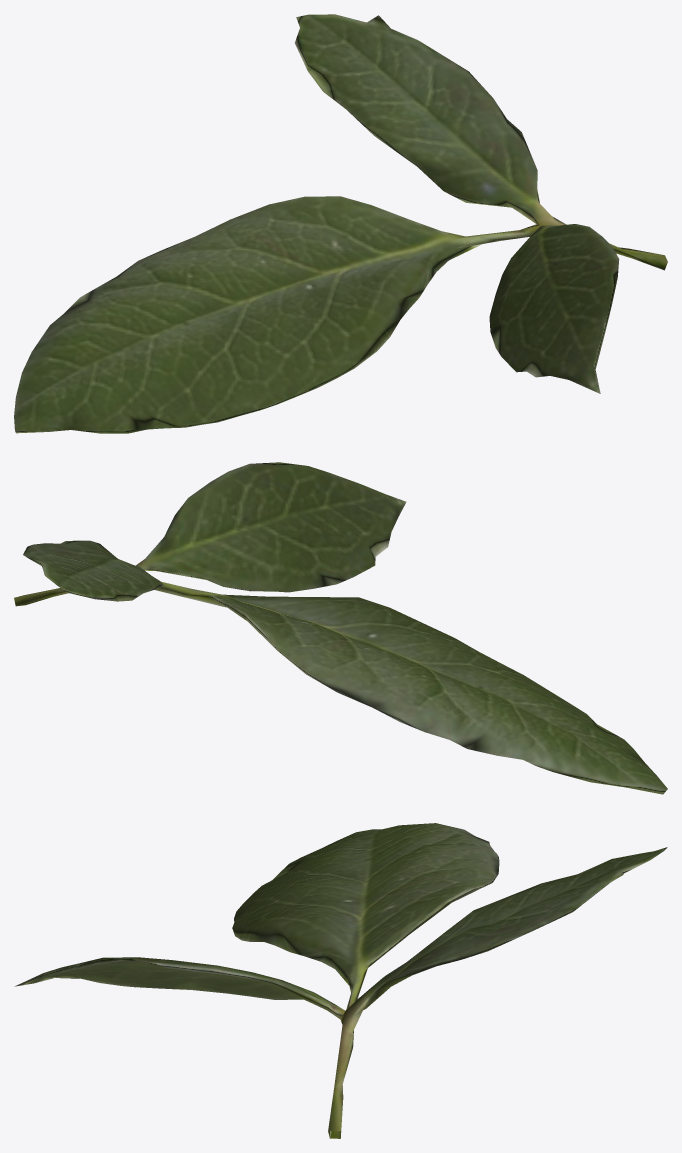
The model's file is rosaleaveScanned2.fbx.
3 views of the same model, one above another, from view 1: azimuth 30°, elevation 25°; view 2: azimuth 150°, elevation 25°; view 3: azimuth 270°, elevation 25° (orthographic). The views are drawn at different scales.
Visible parts, largest first — view 1: rosaleaveScanned2; view 2: rosaleaveScanned2; view 3: rosaleaveScanned2.
Boxes of the visible parts, bbox=[...] form: rosaleaveScanned2: bbox=[14, 14, 667, 433]; rosaleaveScanned2: bbox=[14, 462, 667, 794]; rosaleaveScanned2: bbox=[14, 823, 667, 1138].
Size of the model in its own units: 0.5302 by 0.1613 by 0.4531.
